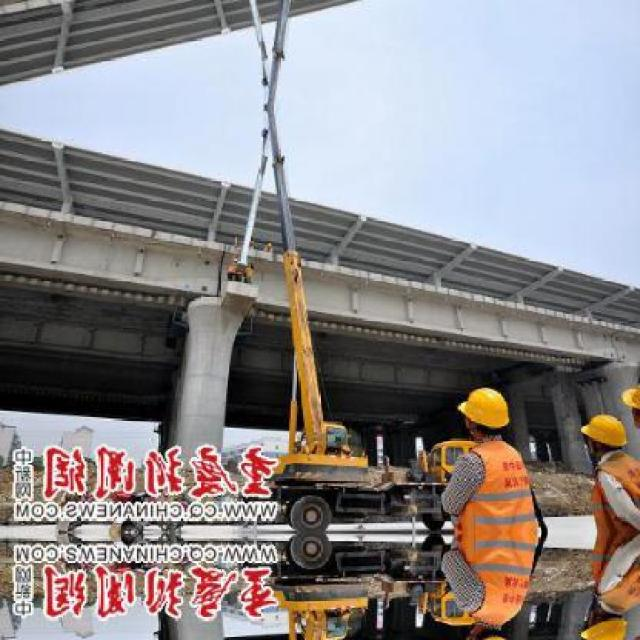Reflective-Jacket: (452, 438, 545, 596), (583, 451, 640, 538)
Safety-Helmet: (452, 382, 516, 436), (576, 410, 632, 452), (617, 376, 640, 422)
